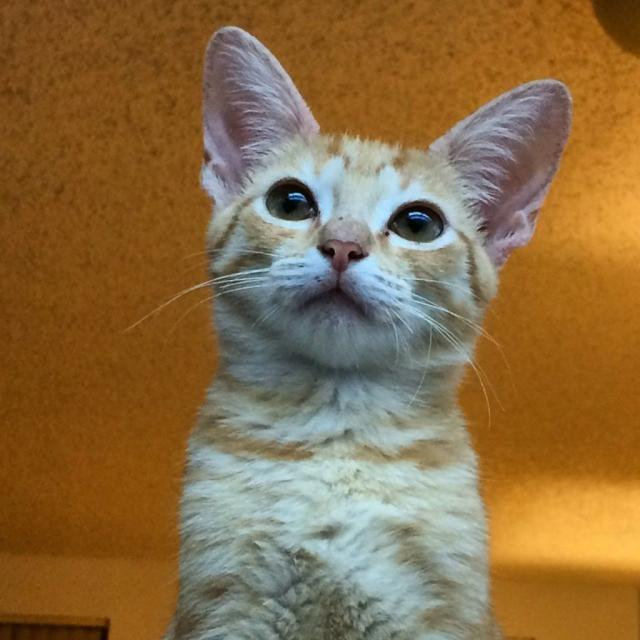Cat: (159, 26, 572, 640)
